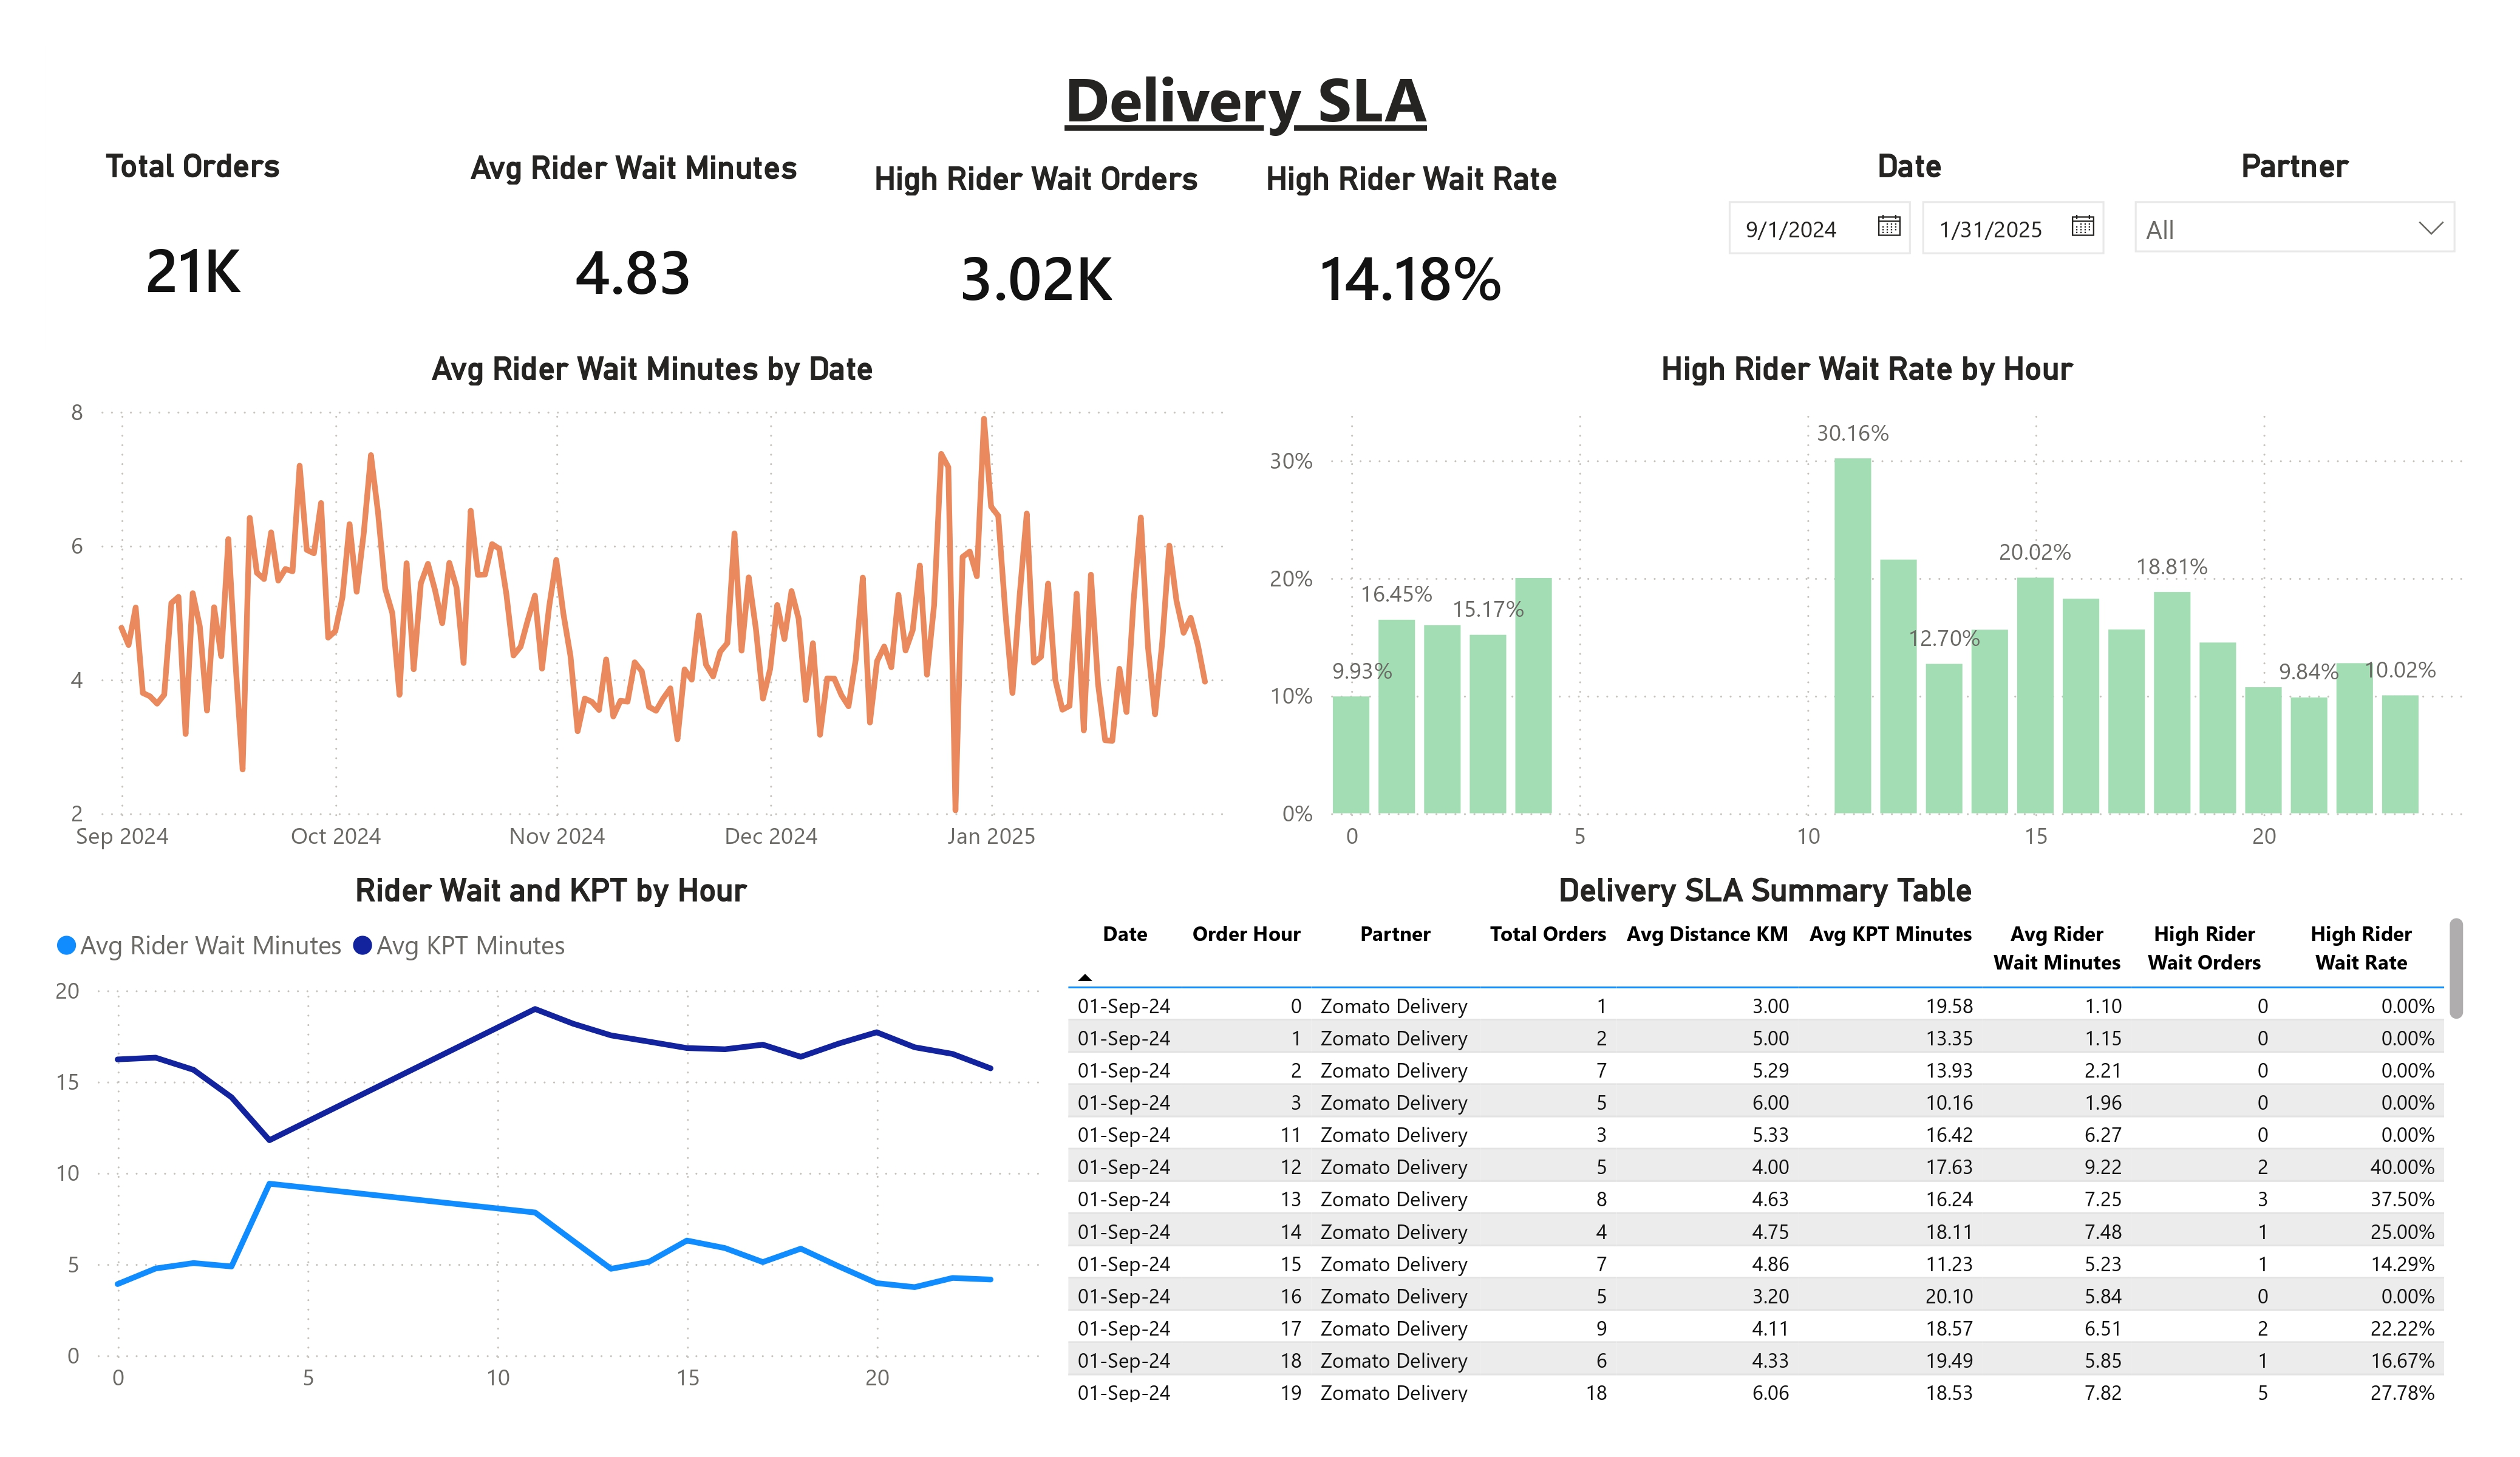

This screenshot's page, from the dashboard's own definition file:
{"tool":"powerbi","page":{"name":"Delivery SLA","canvas":[1280,720],"ordinal":3},"visuals":[{"type":"textbox","box":[531.7,0,215,55],"z":0},{"type":"cardVisual","title":"Total Orders","fields":{"Data":["mart_delivery_sla.Total Orders sla"]},"box":[0,52.5,155,107.5],"z":1},{"type":"cardVisual","title":"Avg Rider Wait Minutes","fields":{"Data":["mart_delivery_sla.Avg Rider Wait Minutes Sla"]},"box":[194,54,232,106],"z":2},{"type":"cardVisual","title":"High Rider Wait Orders","fields":{"Data":["mart_delivery_sla.High Rider Wait Orders"]},"box":[426,60,192,100],"z":3},{"type":"cardVisual","title":"High Rider Wait Rate","fields":{"Data":["mart_delivery_sla.High Rider Wait Rate %"]},"box":[618.3,60,203.3,100],"z":4},{"type":"lineChart","title":"Avg Rider Wait Minutes by Date","fields":{"Y":["mart_delivery_sla.Avg Rider Wait Minutes Sla"],"Category":["mart_delivery_sla.order_date"]},"box":[0,160,640,275],"z":5},{"type":"columnChart","title":"High Rider Wait Rate by Hour","fields":{"Category":["mart_delivery_sla.order_hour"],"Y":["mart_delivery_sla.High Rider Wait Rate"]},"box":[640,160,640,275],"z":6},{"type":"lineChart","title":"Rider Wait and KPT by Hour","fields":{"Category":["mart_delivery_sla.order_hour"],"Y":["Avg(mart_delivery_sla.avg_rider_wait_minutes)","Avg(mart_delivery_sla.avg_kpt_minutes)"]},"box":[0,435,533.3,285],"z":7},{"type":"tableEx","title":"Delivery SLA Summary Table","fields":{"Values":["mart_delivery_sla.order_date","mart_delivery_sla.order_hour","mart_delivery_sla.delivery_partner","mart_delivery_sla.total_orders","mart_delivery_sla.avg_distance_km","mart_delivery_sla.avg_kpt_minutes","mart_delivery_sla.avg_rider_wait_minutes","mart_delivery_sla.high_rider_wait_orders","mart_delivery_sla.High Rider Wait Rate"]},"box":[533.3,435,746.7,285],"z":8},{"type":"slicer","title":"Partner","fields":{"Values":["mart_delivery_sla.delivery_partner"]},"box":[1091.4,52.9,188.6,77.1],"z":9},{"type":"slicer","title":"Date","fields":{"Values":["mart_delivery_sla.order_date"]},"box":[874.3,52.9,217.1,77.1],"z":10}]}

Visuals, with their boxes on the page's 1280x720 design canvas (x1, y1, x2, y2). These are canvas units, not pixel positions in the 2520x1457 screenshot, which may show the page scaled, cropped or inside an application window:
textbox: 532,0,747,55
"Total Orders" cardVisual: 0,52,155,160
"Avg Rider Wait Minutes" cardVisual: 194,54,426,160
"High Rider Wait Orders" cardVisual: 426,60,618,160
"High Rider Wait Rate" cardVisual: 618,60,822,160
"Avg Rider Wait Minutes by Date" lineChart: 0,160,640,435
"High Rider Wait Rate by Hour" columnChart: 640,160,1280,435
"Rider Wait and KPT by Hour" lineChart: 0,435,533,720
"Delivery SLA Summary Table" tableEx: 533,435,1280,720
"Partner" slicer: 1091,53,1280,130
"Date" slicer: 874,53,1091,130
